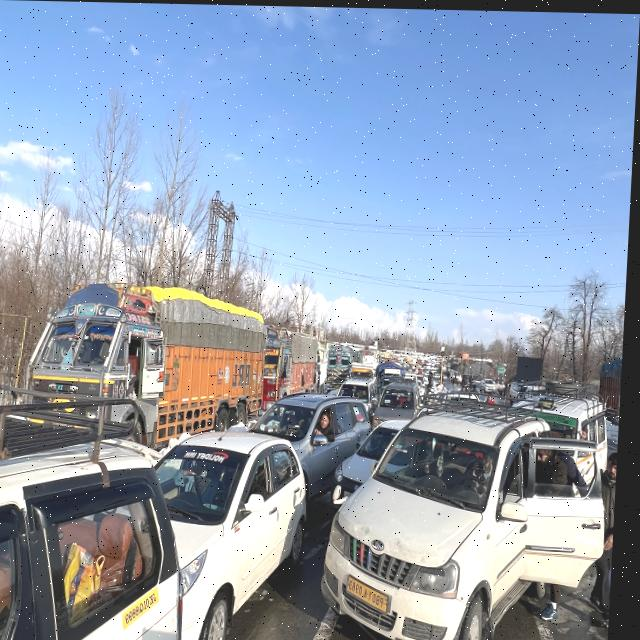plate: (348, 566, 401, 616), (127, 577, 170, 633)
